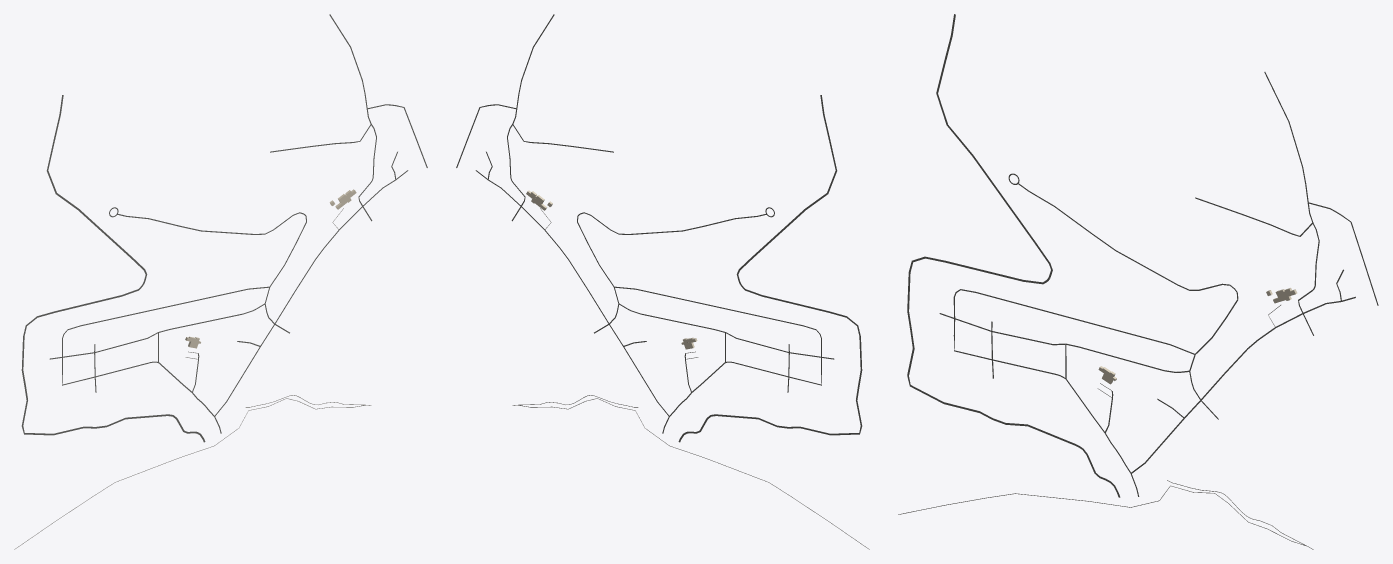
File: historic-palestine-10_36_3522_3308.glb
3 renders of one model, left to right at view 1: azimuth 30°, elevation 25°; view 2: azimuth 150°, elevation 25°; view 3: azimuth 330°, elevation 25°, orthographic. The views are drawn at different scales.
Visible parts, largest first — view 1: Road .009, Road .007, Road .018; view 2: Road .009, Road .007, Road .018; view 3: Road .009, Road .007, Road .018.
Boxes of the visible parts, <box> form: Road .009: <box>21,285,205,442</box>; Road .007: <box>62,286,269,433</box>; Road .018: <box>46,95,147,282</box>; Road .009: <box>678,285,862,442</box>; Road .007: <box>614,286,821,433</box>; Road .018: <box>736,95,837,282</box>; Road .009: <box>907,256,1120,497</box>; Road .007: <box>953,289,1194,496</box>; Road .018: <box>936,14,1052,278</box>.
Size of the model in its own units: 1283 by 1360 by 8.7.
